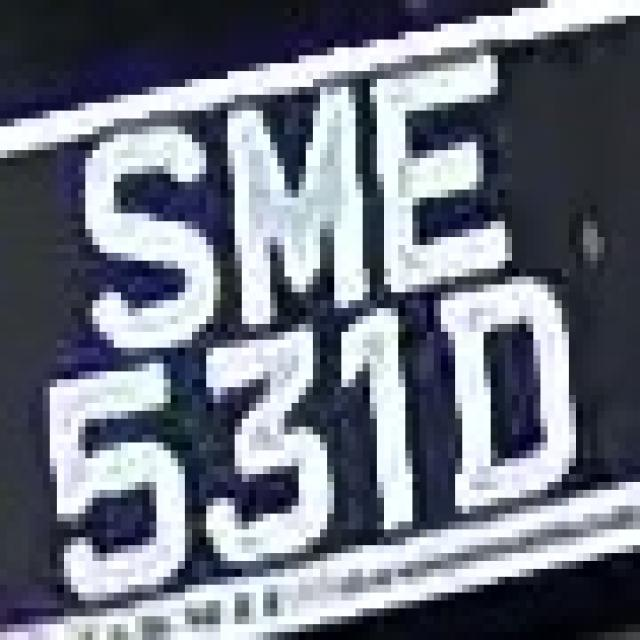1: (327, 269, 434, 545)
3: (178, 332, 348, 577)
5: (28, 340, 192, 640)
D: (441, 277, 597, 553)
E: (363, 40, 533, 308)
M: (199, 79, 363, 316)
S: (57, 103, 235, 363)
